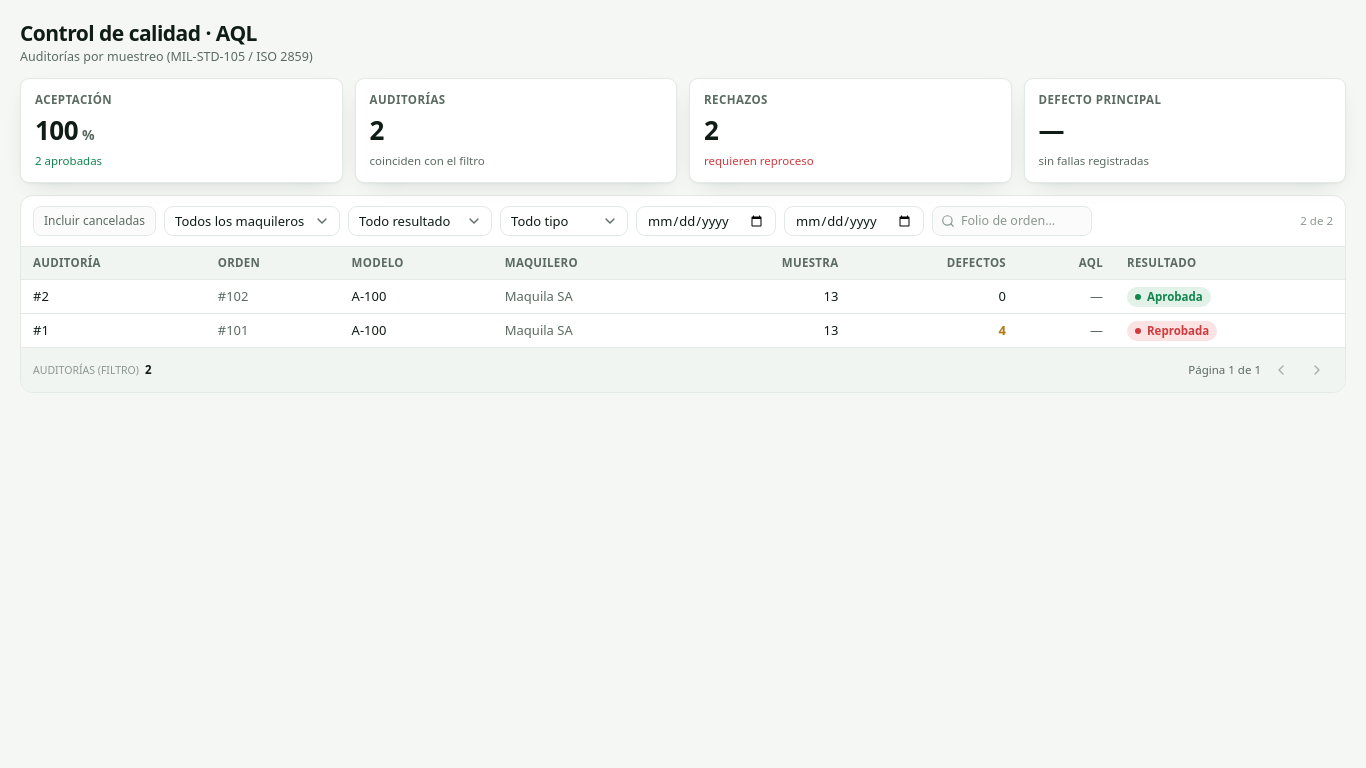
Test: ConsultaAuditoriasPagina › sin calidad.modificar-auditorias oculta Modificar y Cancelar pero deja Imprimir
Click the 1st row with test id "fila-consulta-auditoria" at (683, 296), box [21,279,1345,313]
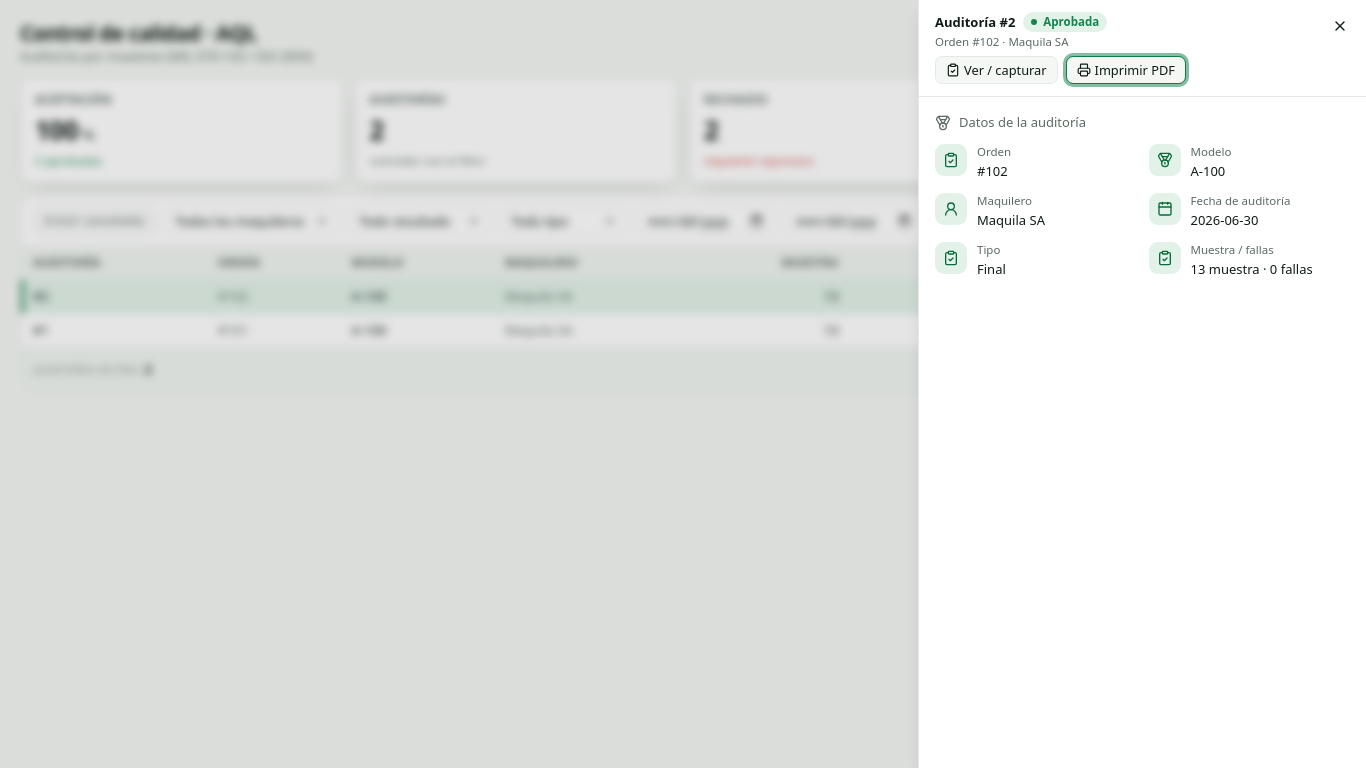
Check: the button with test id "imprimir-consulta-auditoria" is shown, box [1066,56,1186,84]
